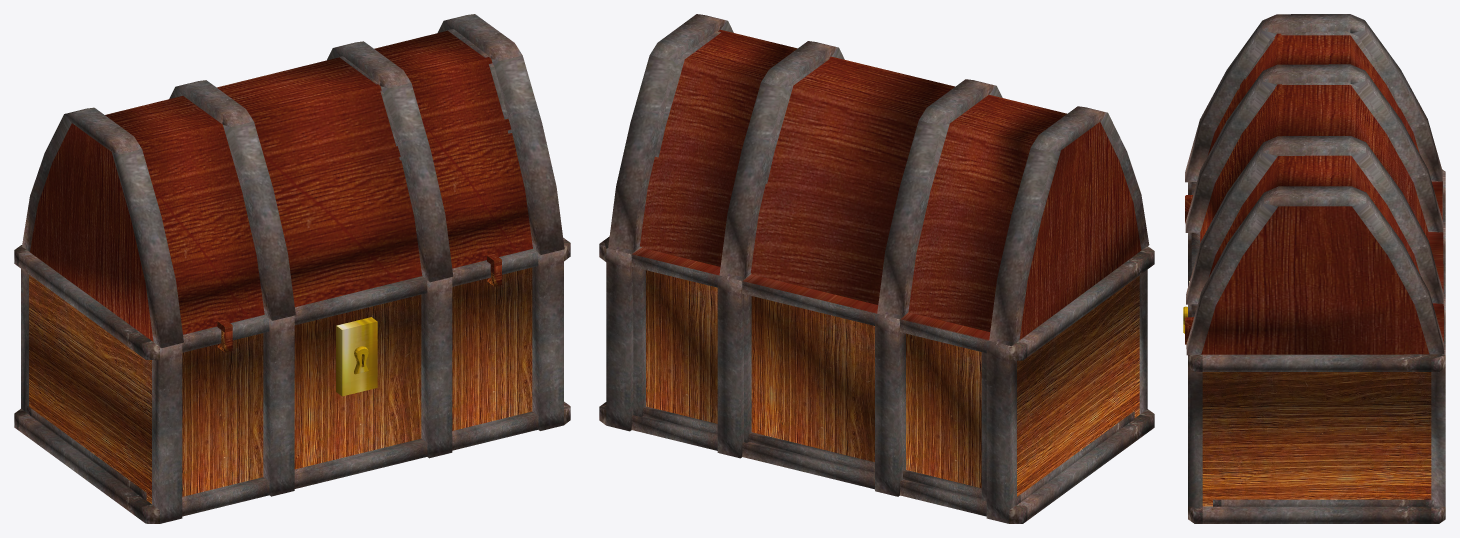
File: chest.glb
The picture shows the model from 3 angles, left to right: view 1: azimuth 30°, elevation 25°; view 2: azimuth 150°, elevation 25°; view 3: azimuth 270°, elevation 25°; orthographic projection. The views are drawn at different scales.
Visible parts, largest first — view 1: Top_Material #0_0, chest, Lock; view 2: Top_Material #0_0, chest; view 3: Top_Material #0_0, chest.
Boxes of the visible parts, bbox=[...] form: Top_Material #0_0: bbox=[22, 14, 564, 348]; chest: bbox=[14, 237, 570, 523]; Lock: bbox=[336, 317, 377, 396]; Top_Material #0_0: bbox=[608, 14, 1149, 346]; chest: bbox=[599, 236, 1154, 523]; Top_Material #0_0: bbox=[1185, 14, 1444, 355]; chest: bbox=[1185, 169, 1445, 523].
Size of the model in its own units: 0.9948 by 0.7767 by 0.5738.
2 materials, 2 textured.
